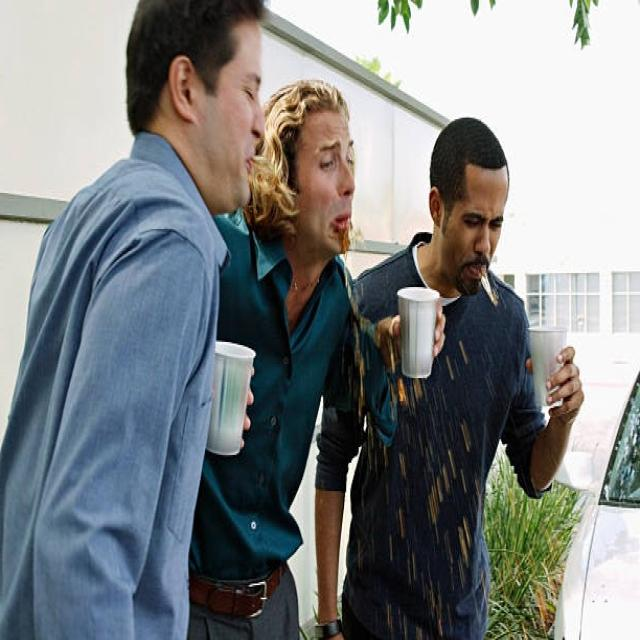Spitting: (261, 74, 372, 346)
